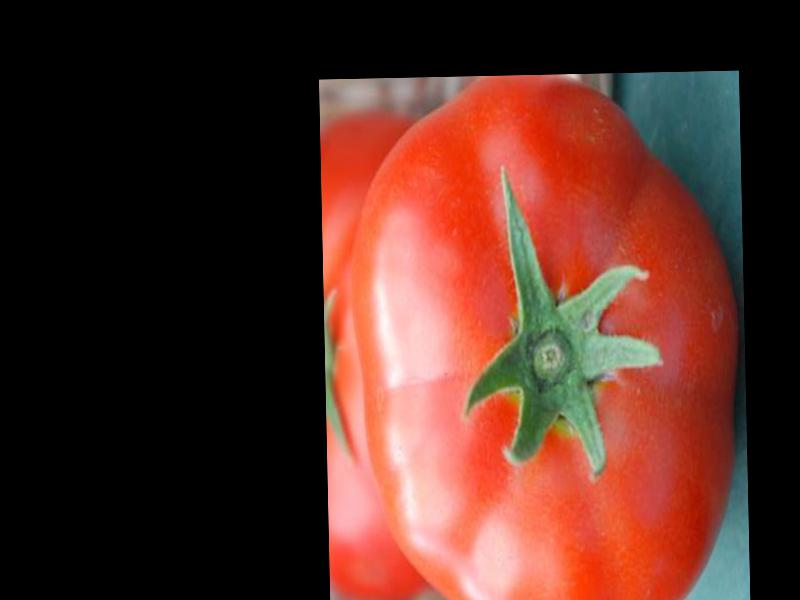Tomato: (347, 70, 743, 600)
